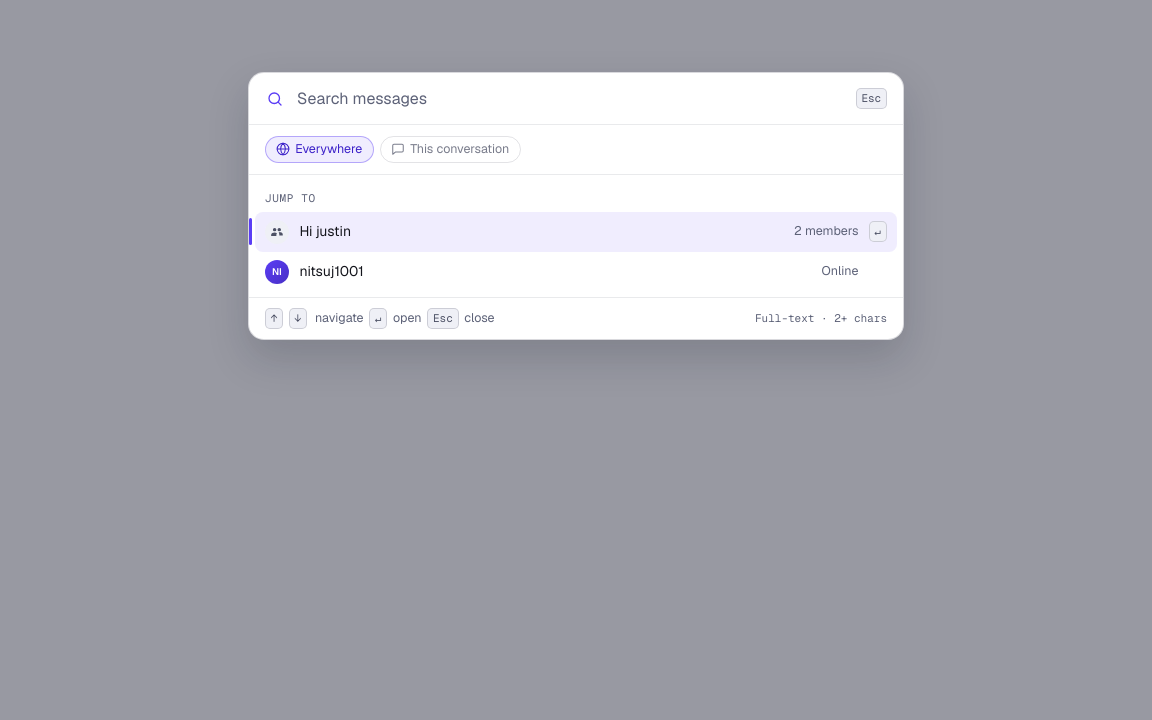
Test case: SearchPalette › keeps the query when the server can’t be reached, and tries again on request
This screenshot has width=1152, height=720.
Type "redis" into the dropdown labelled "Search messages". click: {"x": 570, "y": 99}
box: top-left (297, 87), bottom-right (844, 111)
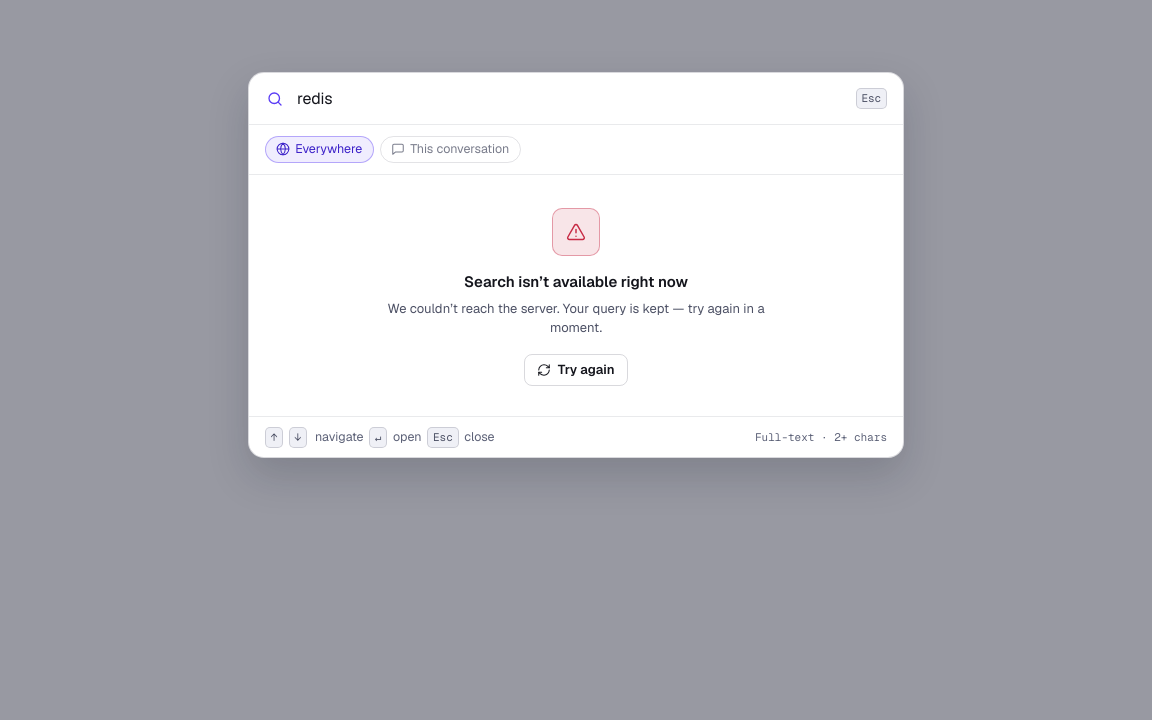
Expected: the text "Search isn’t available right now" is shown, top-left (464, 270), bottom-right (688, 293)
Click the button "Try again". click: {"x": 576, "y": 370}
box: top-left (524, 354), bottom-right (628, 386)
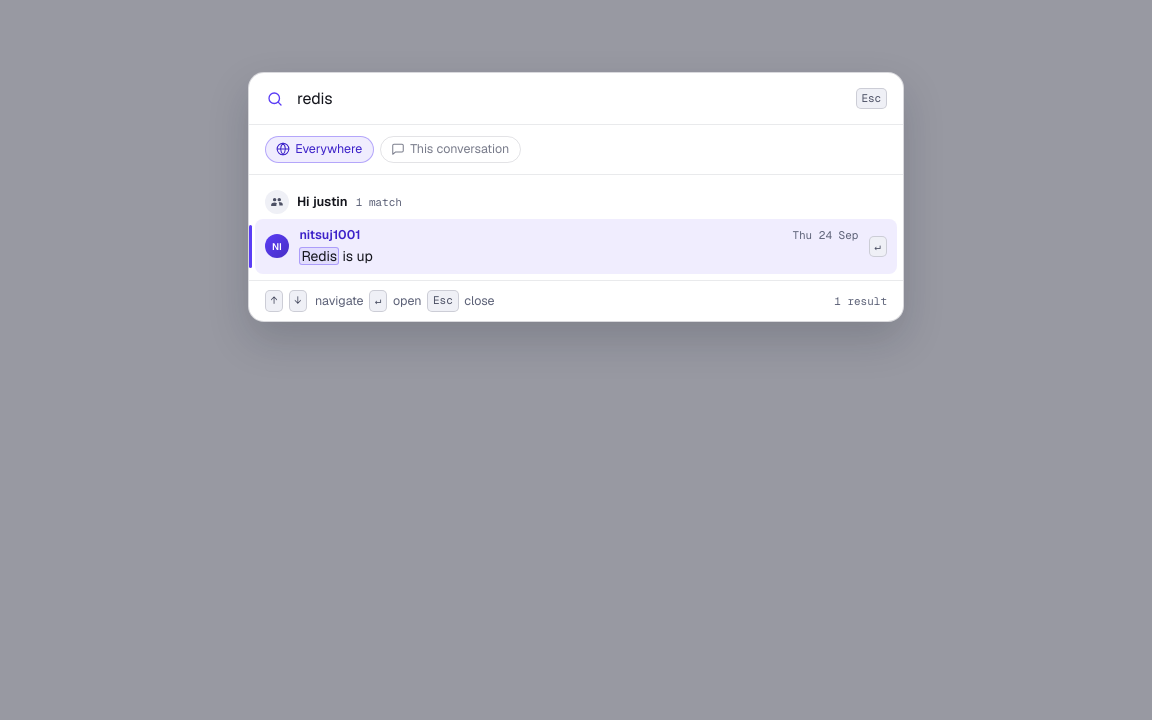
Expected: the option shows "Redis is up", top-left (255, 218), bottom-right (897, 274)
